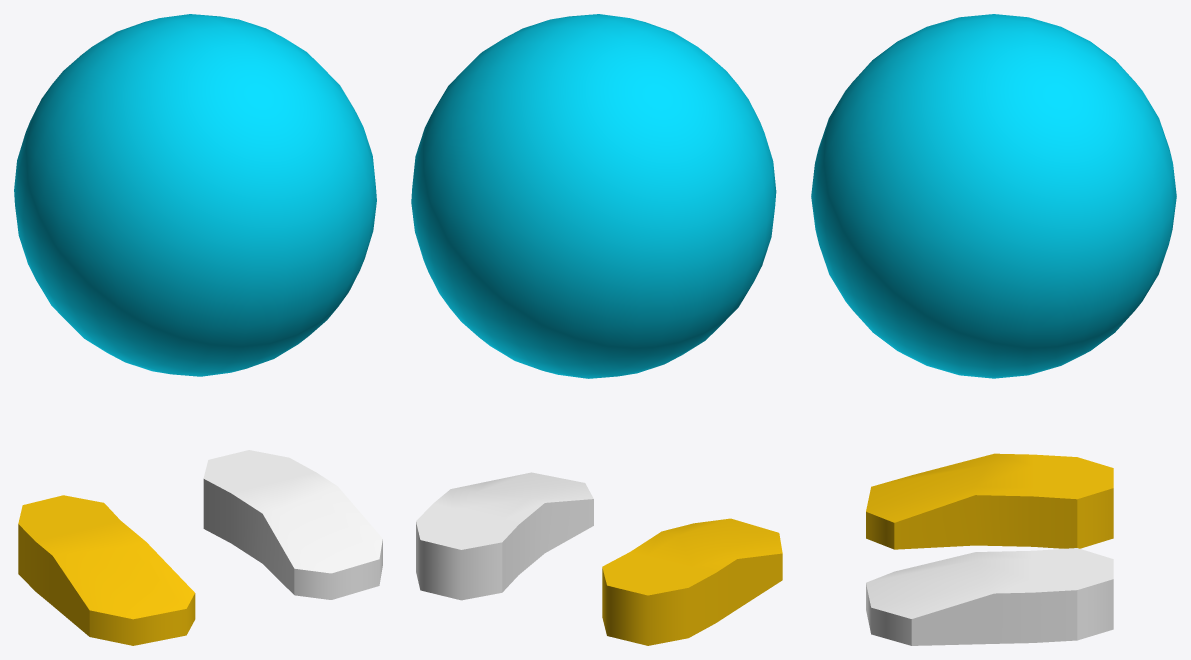
Rendered from PlayerTestV3.fbx.
The picture shows the model from 3 angles, left to right: view 1: azimuth 30°, elevation 25°; view 2: azimuth 150°, elevation 25°; view 3: azimuth 270°, elevation 25°; orthographic projection.
Parts seen in each view (by area): view 1: PlayerObj, LeftFoot, RightFoot; view 2: PlayerObj, RightFoot, LeftFoot; view 3: PlayerObj, LeftFoot, RightFoot.
Part boxes in pixels (x1,y1,x2,y2): PlayerObj: (14, 14, 376, 376); LeftFoot: (203, 450, 382, 599); RightFoot: (18, 495, 195, 645); PlayerObj: (411, 14, 776, 378); RightFoot: (602, 518, 782, 645); LeftFoot: (416, 472, 593, 600); PlayerObj: (811, 14, 1176, 378); LeftFoot: (866, 548, 1113, 645); RightFoot: (866, 453, 1113, 549).
Bounding box in the file's own units: 100 × 164 × 100.
